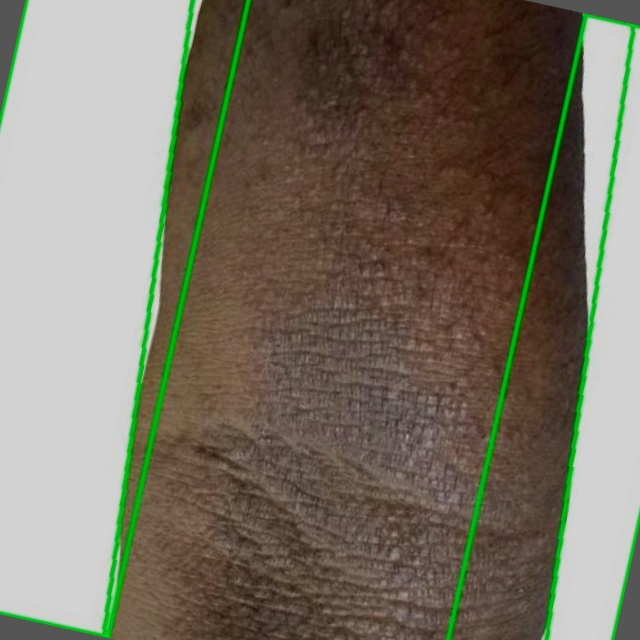Eczema: (105, 0, 632, 639), (0, 0, 248, 637), (448, 14, 639, 639)
